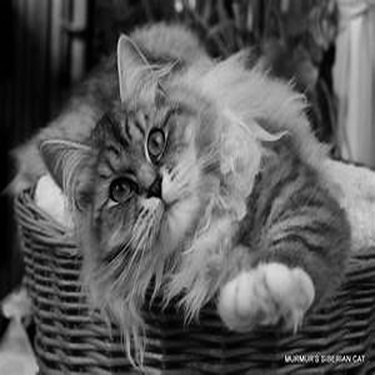cat: (31, 31, 354, 328)
